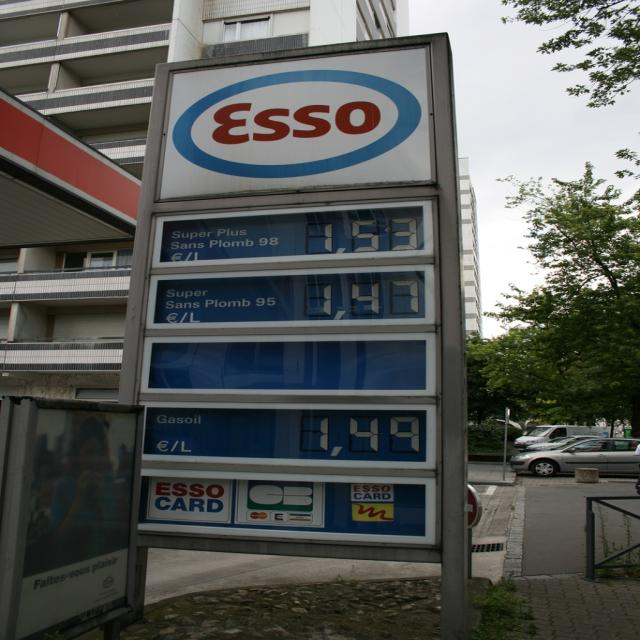esso: (168, 68, 428, 182)
